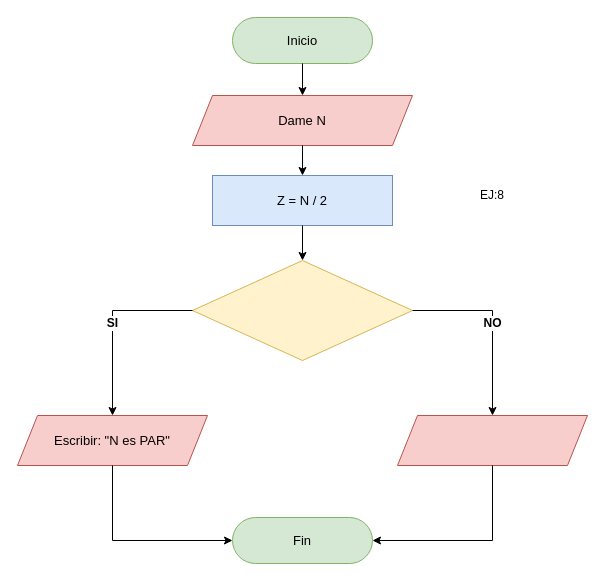
This 605x581 diagram has some shape labels left out. Each missing label, with the box of its shape:
Escribir: "N es IMPAR": (396, 414, 588, 466)
¿N = 2 x INT(Z)?: (192, 260, 412, 360)
